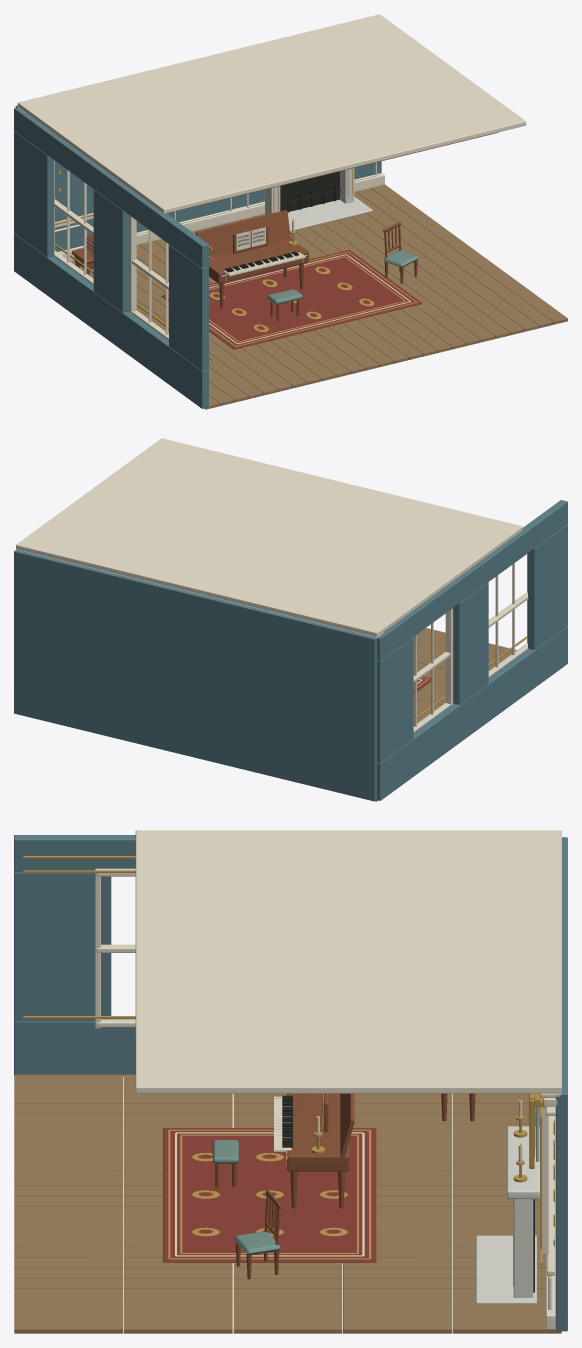
File: music.glb
3 renders of one model, top to bottom at view 1: azimuth 30°, elevation 25°; view 2: azimuth 150°, elevation 25°; view 3: azimuth 270°, elevation 25°, orthographic. The views are drawn at different scales.
Parts seen in each view (by area): view 1: Plaster ceiling, Woven carpet, Left wall sill, Left wall lintel, Left wall pier.002, Left wall pier, Left wall pier.001, Back wall, Square pianoforte case, Open mahogany lid, Fireplace recess, Back moulding (+40 smaller); view 2: Back wall, Plaster ceiling, Left wall sill, Left wall lintel, Left wall pier, Left wall pier.002, Left wall pier.001, Window casing.002; view 3: Plaster ceiling, Woven carpet, Left wall pier, Left wall sill, Back wall, Left wall lintel, Square pianoforte case, Stone hearth, Marble jamb.001, Carved mantel, Individual oak floorboard.120, Individual oak floorboard.122 (+80 smaller).
Part boxes in pixels (<box>): Plaster ceiling: <box>17,14,526,213</box>; Woven carpet: <box>161,249,422,349</box>; Left wall sill: <box>14,233,208,408</box>; Left wall lintel: <box>14,107,208,268</box>; Left wall pier.002: <box>14,131,54,257</box>; Left wall pier: <box>169,244,208,370</box>; Left wall pier.001: <box>93,189,129,312</box>; Back wall: <box>15,105,381,251</box>; Square pianoforte case: <box>209,238,308,283</box>; Open mahogany lid: <box>196,210,290,257</box>; Fireplace recess: <box>280,171,339,211</box>; Back moulding: <box>59,173,384,261</box>; Back wall: <box>14,549,376,801</box>; Plaster ceiling: <box>16,438,522,636</box>; Left wall sill: <box>377,626,567,800</box>; Left wall lintel: <box>377,500,567,660</box>; Left wall pier: <box>528,524,567,649</box>; Left wall pier.002: <box>377,637,413,762</box>; Left wall pier.001: <box>453,582,488,704</box>; Window casing.002: <box>445,608,453,705</box>; Plaster ceiling: <box>135,830,561,1093</box>; Woven carpet: <box>163,1128,376,1262</box>; Left wall pier: <box>14,872,111,1021</box>; Left wall sill: <box>14,1018,135,1076</box>; Back wall: <box>555,837,567,1331</box>; Left wall lintel: <box>14,835,135,872</box>; Square pianoforte case: <box>287,1093,349,1171</box>; Stone hearth: <box>476,1235,536,1303</box>; Marble jamb.001: <box>513,1199,533,1297</box>; Carved mantel: <box>506,1126,539,1199</box>; Individual oak floorboard.120: <box>14,1319,123,1333</box>; Individual oak floorboard.122: <box>233,1319,342,1333</box>.
Size of the model in its own units: 10.1 by 4.47 by 9.1.
